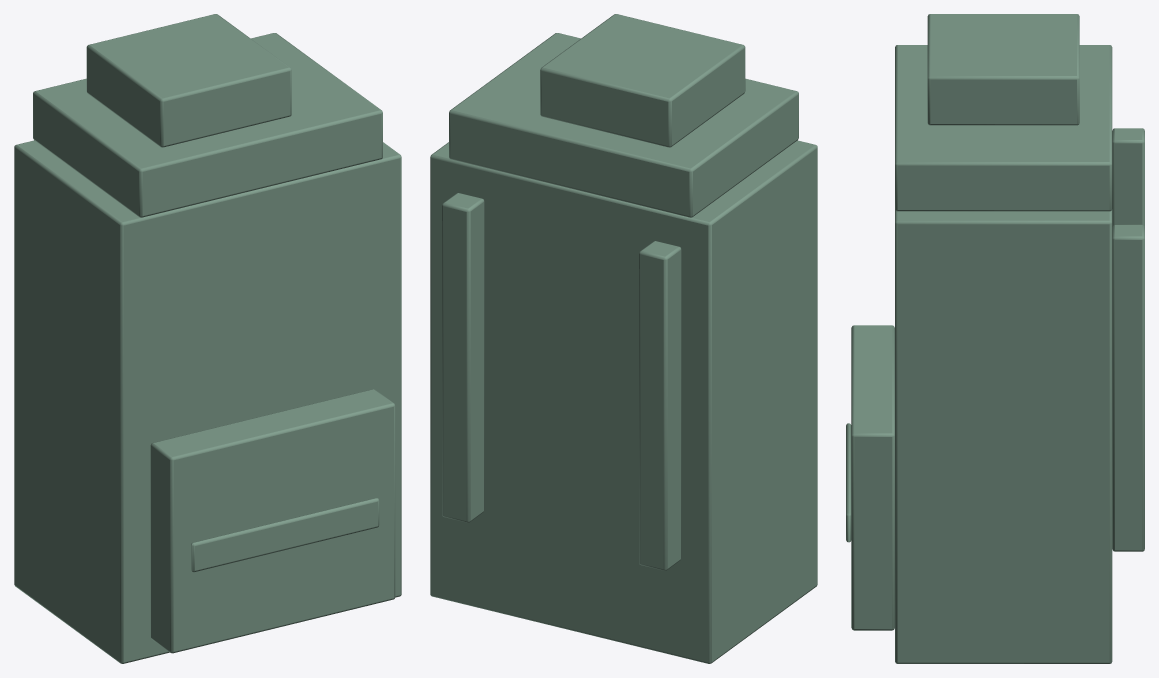
The model's file is BaloKhoi_XanhLa.glb.
3 renders of one model, left to right at view 1: azimuth 30°, elevation 25°; view 2: azimuth 150°, elevation 25°; view 3: azimuth 270°, elevation 25°, orthographic.
Visible parts, largest first — view 1: BaloKhoi_XanhLa; view 2: BaloKhoi_XanhLa; view 3: BaloKhoi_XanhLa.
Part boxes in pixels (x1,y1,x2,y2): BaloKhoi_XanhLa: [14, 14, 401, 663]; BaloKhoi_XanhLa: [430, 14, 817, 663]; BaloKhoi_XanhLa: [846, 14, 1144, 663].
Bounding box in the file's own units: 0.3 × 0.55 × 0.275.
